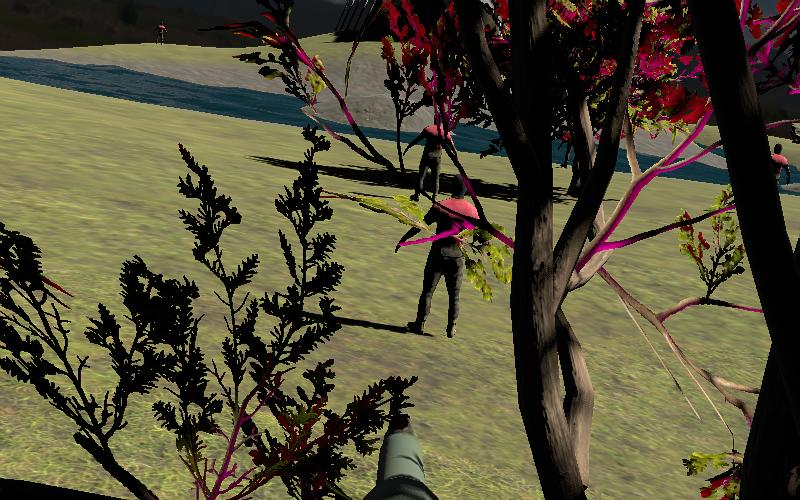Human: (394, 171, 492, 340)
